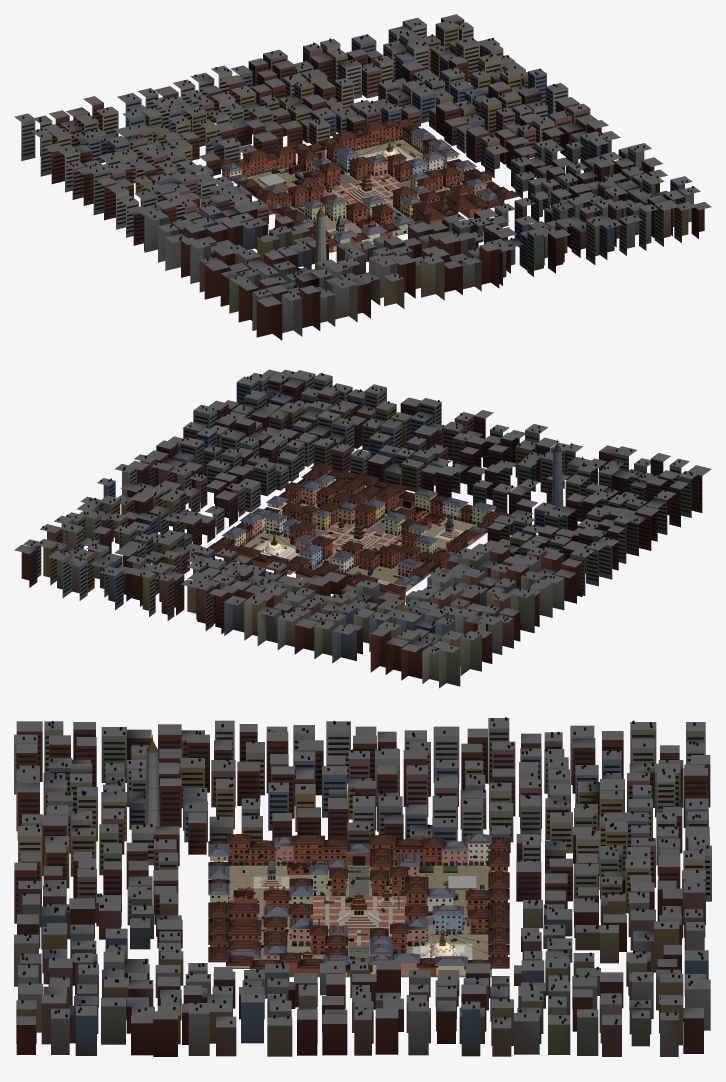
The model's file is map.glb.
3 renders of one model, top to bottom at view 1: azimuth 30°, elevation 25°; view 2: azimuth 150°, elevation 25°; view 3: azimuth 270°, elevation 25°, orthographic. The views are drawn at different scales.
Visible parts, largest first — view 1: Scenery, Arena; view 2: Scenery, Arena; view 3: Scenery, Arena.
Part boxes in pixels (left/top/right/bottom): Scenery: left=14, top=14, right=711, bottom=340; Arena: left=222, top=126, right=504, bottom=252; Scenery: left=14, top=369, right=711, bottom=688; Arena: left=215, top=468, right=495, bottom=602; Scenery: left=14, top=717, right=711, bottom=1056; Arena: left=210, top=844, right=507, bottom=977.
Size of what is drawn, in the model's own units: 353 by 59.23 by 351.
